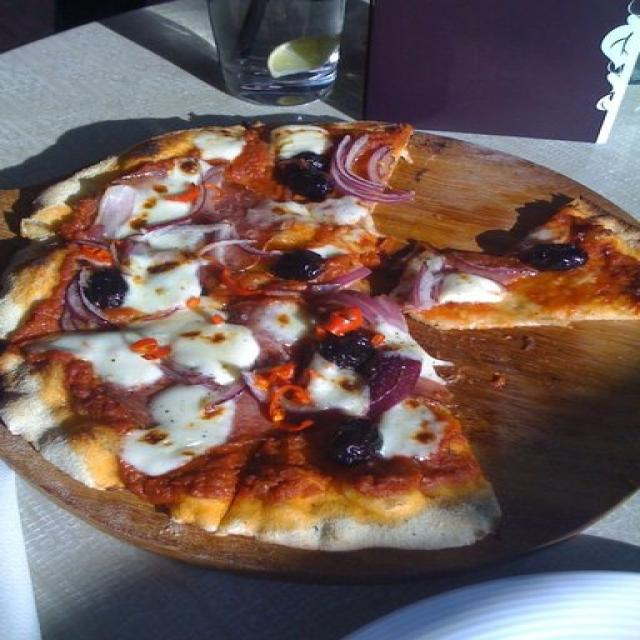Cheese: (130, 394, 232, 471), (147, 318, 254, 376), (66, 334, 160, 385), (126, 167, 199, 227), (128, 262, 205, 316), (382, 405, 440, 457), (388, 326, 442, 381), (299, 196, 370, 222), (274, 128, 320, 158), (264, 306, 302, 342), (436, 283, 507, 302), (252, 200, 296, 230), (197, 134, 239, 162), (150, 231, 198, 251)
Olives: (326, 340, 383, 374), (285, 161, 329, 198), (339, 425, 378, 463), (278, 255, 320, 282), (91, 270, 121, 306), (538, 250, 592, 270)
Onions: (337, 136, 414, 202), (330, 291, 411, 327), (204, 224, 270, 263), (56, 273, 104, 326), (207, 169, 241, 223), (452, 259, 535, 279), (317, 266, 371, 288), (416, 266, 436, 314)
Pizza: (0, 122, 640, 550)
